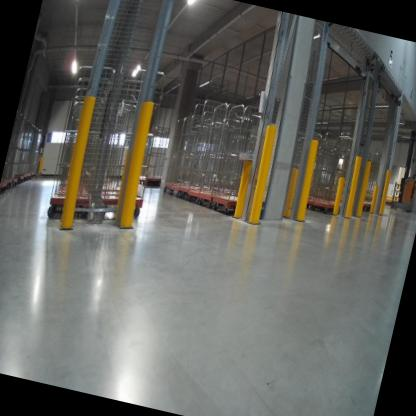forklift: (386, 117, 416, 215)
